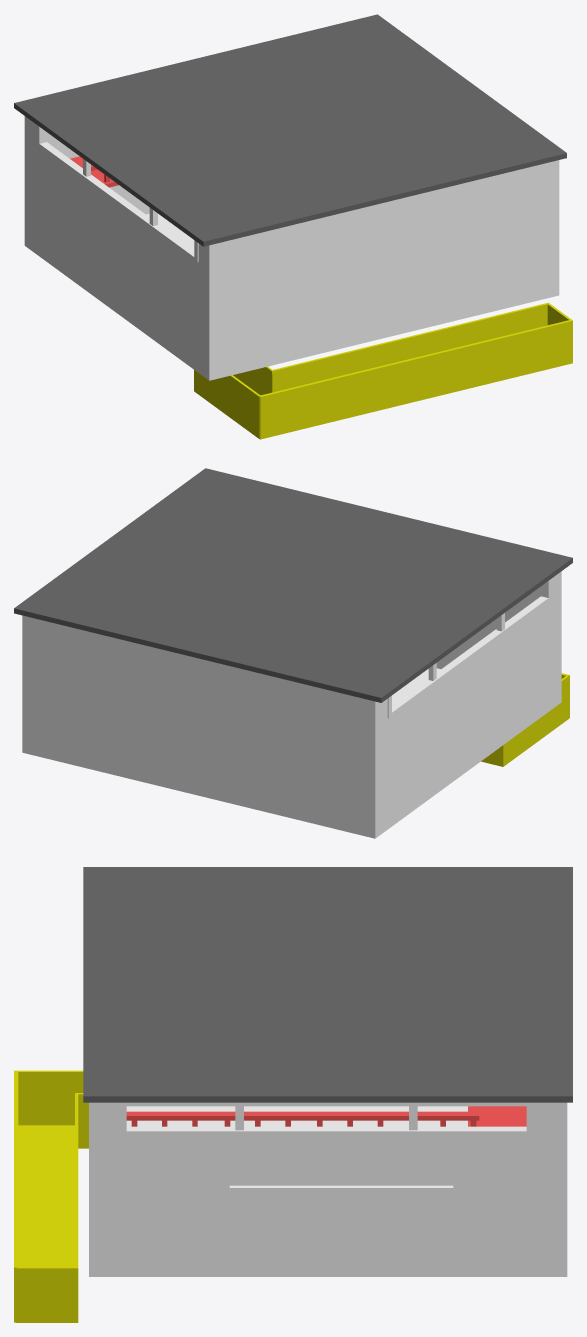
File: waremk.fbx
3 renders of one model, top to bottom at view 1: azimuth 30°, elevation 25°; view 2: azimuth 150°, elevation 25°; view 3: azimuth 270°, elevation 25°, orthographic. The views are drawn at different scales.
Visible parts, largest first — view 1: w_ceiling:polySurface1, w_wall:polySurface1, polySurface341, w_underpasswall:polySurface1, w_underpass:polySurface1, polySurface1; view 2: w_ceiling:polySurface1, polySurface341, polySurface1, w_underpass:polySurface1, w_wall:polySurface1; view 3: w_ceiling:polySurface1, polySurface341, w_underpass:polySurface1, w_door:polySurface1, w_window1:polySurface1, w_railing:polySurface1, polySurface3, w_underpasswall:polySurface1, w_2F:polySurface1, w_wall:polySurface1.
Part boxes in pixels (bbox=[...]): w_ceiling:polySurface1: bbox=[14, 14, 566, 246]; w_wall:polySurface1: bbox=[209, 160, 559, 380]; polySurface341: bbox=[24, 116, 209, 380]; w_underpasswall:polySurface1: bbox=[259, 319, 572, 439]; w_underpass:polySurface1: bbox=[194, 302, 572, 438]; polySurface1: bbox=[36, 124, 198, 262]; w_ceiling:polySurface1: bbox=[14, 468, 572, 702]; polySurface341: bbox=[22, 571, 561, 838]; polySurface1: bbox=[387, 578, 551, 718]; w_underpass:polySurface1: bbox=[481, 676, 569, 766]; w_wall:polySurface1: bbox=[436, 586, 540, 668]; w_ceiling:polySurface1: bbox=[83, 867, 572, 1102]; polySurface341: bbox=[94, 1102, 567, 1276]; w_underpass:polySurface1: bbox=[16, 1070, 88, 1322]; w_door:polySurface1: bbox=[237, 1198, 445, 1272]; w_window1:polySurface1: bbox=[118, 1102, 535, 1135]; w_railing:polySurface1: bbox=[126, 1106, 479, 1126]; polySurface3: bbox=[229, 1185, 453, 1198]; w_underpasswall:polySurface1: bbox=[14, 1070, 18, 1322]; w_2F:polySurface1: bbox=[468, 1106, 526, 1126]; w_wall:polySurface1: bbox=[89, 1102, 93, 1276].
Bounding box in the file's own units: 2275 × 1109 × 2345.
